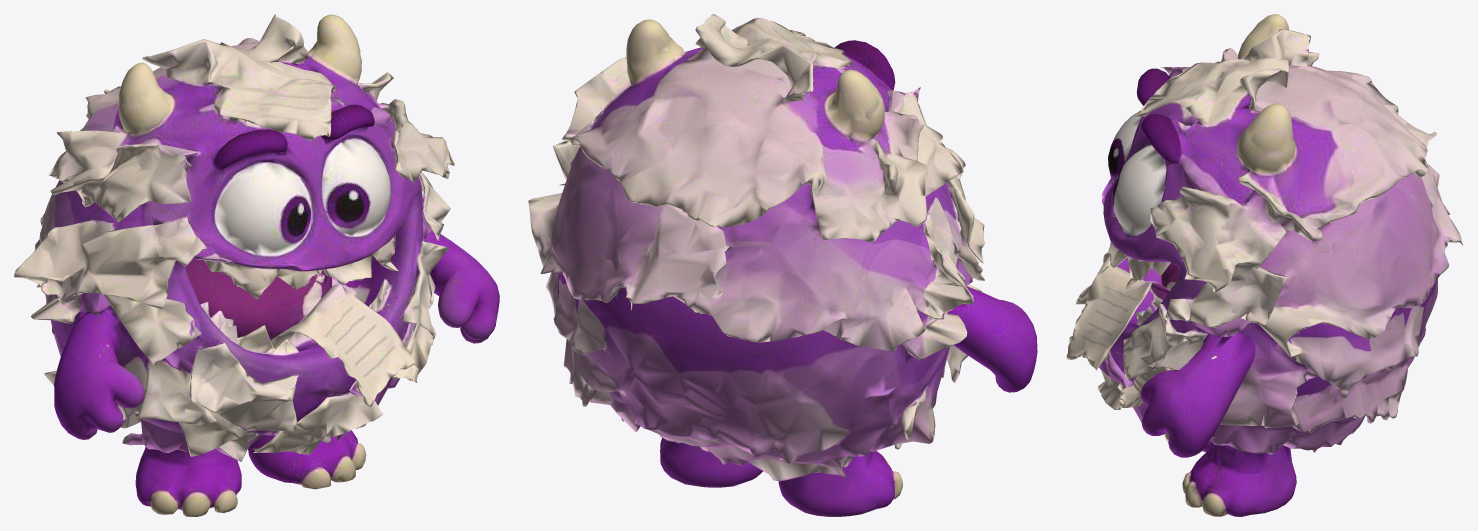
Rendered from library.glb.
3 renders of one model, left to right at view 1: azimuth 30°, elevation 25°; view 2: azimuth 150°, elevation 25°; view 3: azimuth 270°, elevation 25°, orthographic. The views are drawn at different scales.
Size of the model in its own units: 1.9 by 1.8 by 1.54.
Materials: 1 (1 with a texture image).
